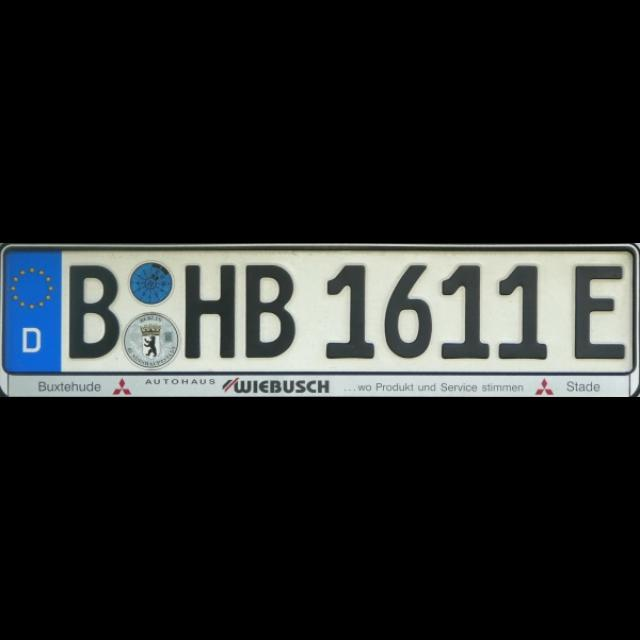license-plates: (0, 246, 638, 395)
